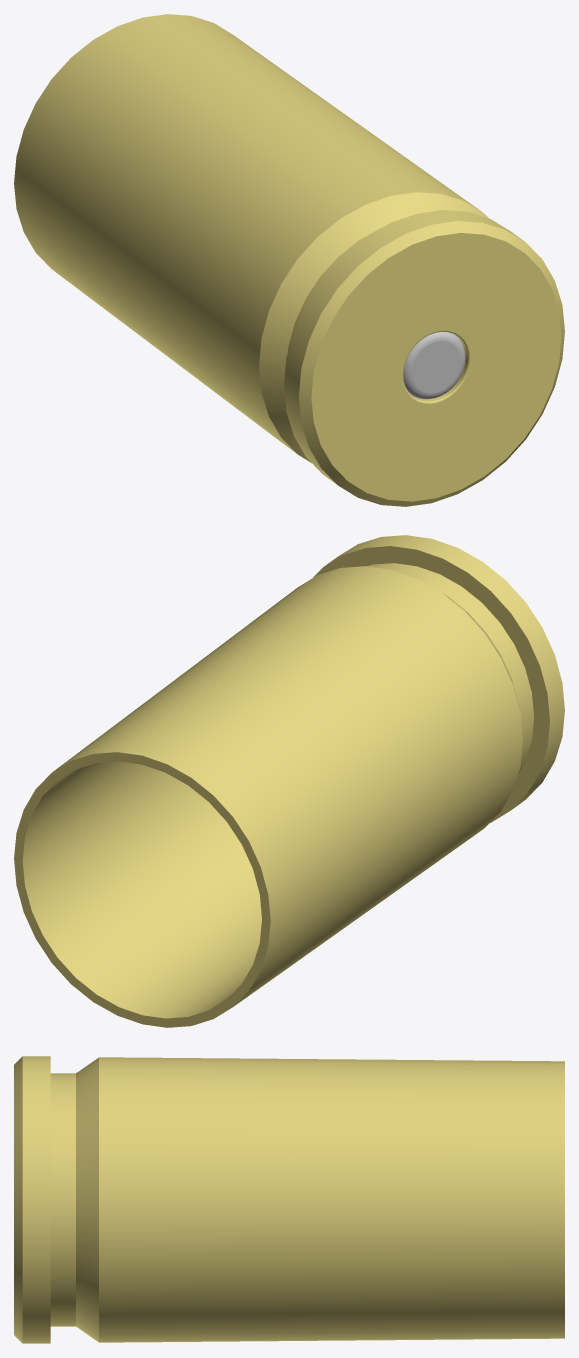
Rendered from 9mmParabellumCasing.fbx.
3 renders of one model, top to bottom at view 1: azimuth 30°, elevation 25°; view 2: azimuth 150°, elevation 25°; view 3: azimuth 270°, elevation 25°, orthographic. The views are drawn at different scales.
Visible parts, largest first — view 1: Casing; view 2: Casing; view 3: Casing.
Boxes of the visible parts, x1,y1,x2,y2 form: Casing: (14,14,564,506); Casing: (14,535,564,1027); Casing: (14,1056,564,1343).
Size of the model in its own units: 0.01 by 0.01 by 0.0192.
